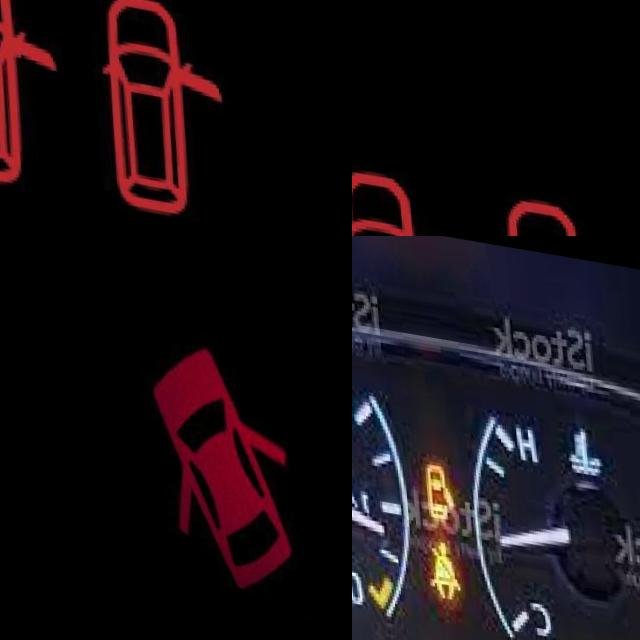Seat Belt: (418, 528, 460, 593)
